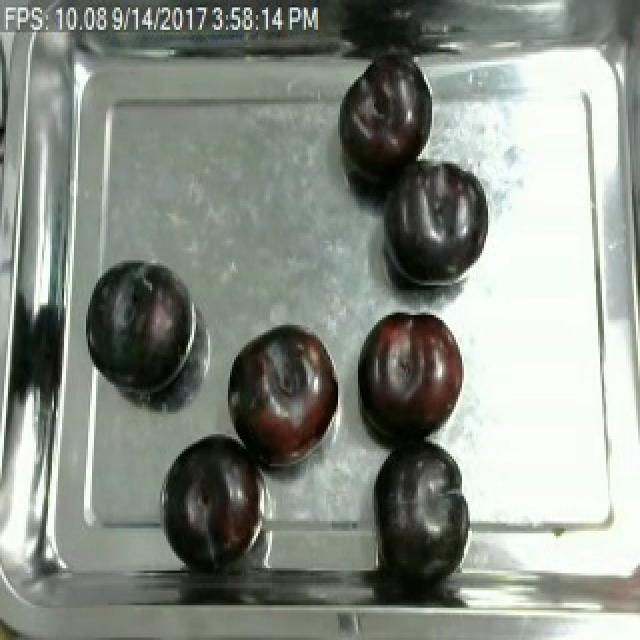Fruit: (224, 315, 346, 476), (352, 303, 470, 449), (366, 437, 478, 583), (82, 258, 194, 397), (380, 149, 490, 290), (158, 427, 268, 563), (334, 52, 434, 186)
